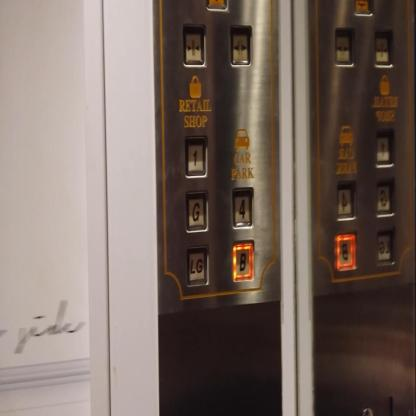1: (182, 133, 209, 180)
4: (230, 182, 255, 232)
B: (231, 240, 257, 283)
G: (184, 186, 209, 235)
LG: (184, 244, 210, 290)
close: (180, 20, 208, 70), (372, 26, 394, 70)
open: (227, 21, 253, 71), (333, 24, 356, 70)
unknown: (334, 176, 358, 223), (371, 178, 398, 219), (333, 229, 357, 273), (373, 227, 398, 268), (372, 128, 395, 168)
